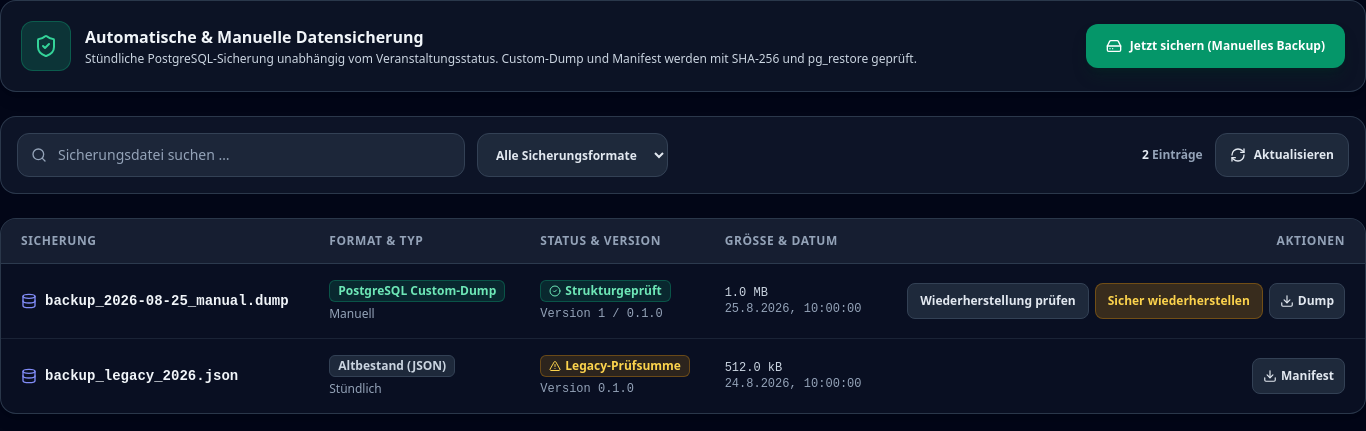
Test case: AdminBackupsView › filtert nach Dateiname
Type "manual" into the field with placeholder "Sicherungsdatei suchen …". click: (241, 155)
box: [17,133,465,177]
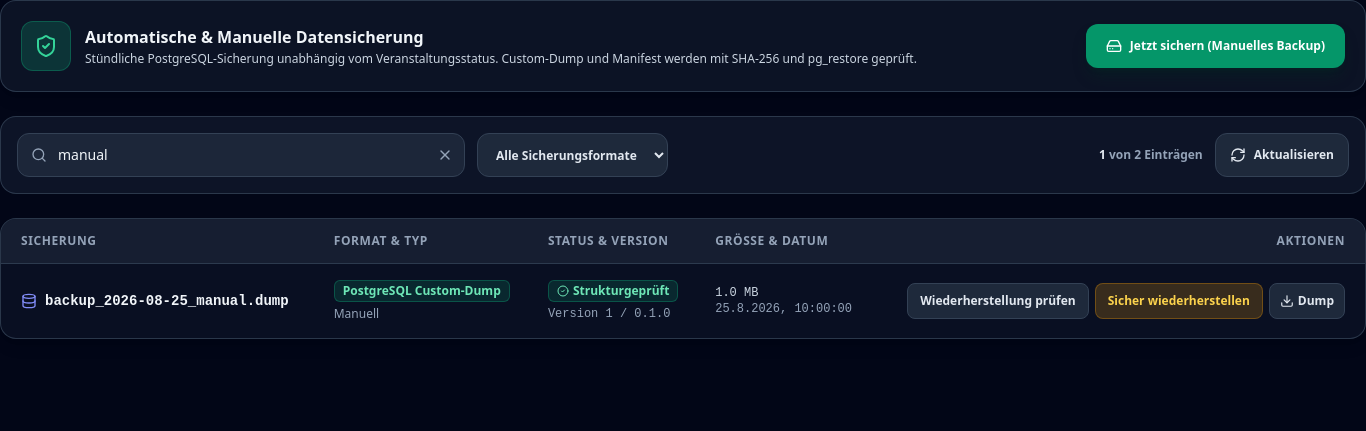
Expected: the text "backup_2026-08-25_manual.dump" is shown, [45,291,289,311]
Now the text "backup_legacy_2026.json" is gone
